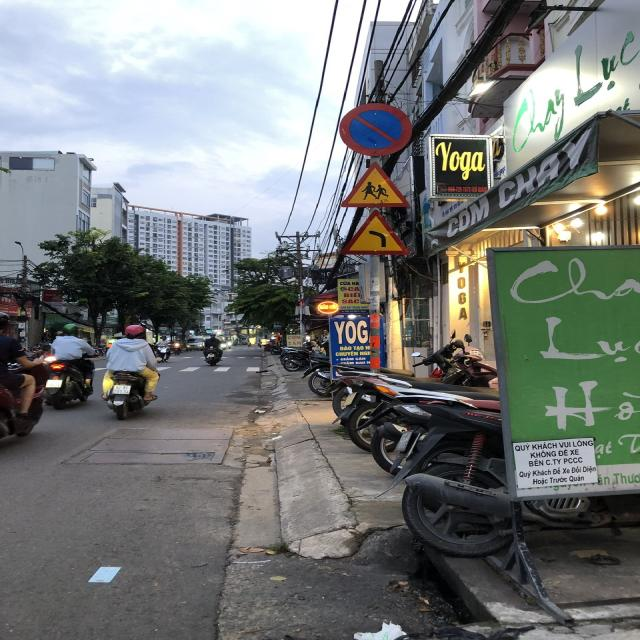Bien bao cam do xe: (334, 99, 421, 157)
Bien bao cho ngoat nguy hiem: (338, 210, 414, 260)
Bien bao tre em: (335, 158, 424, 212)
